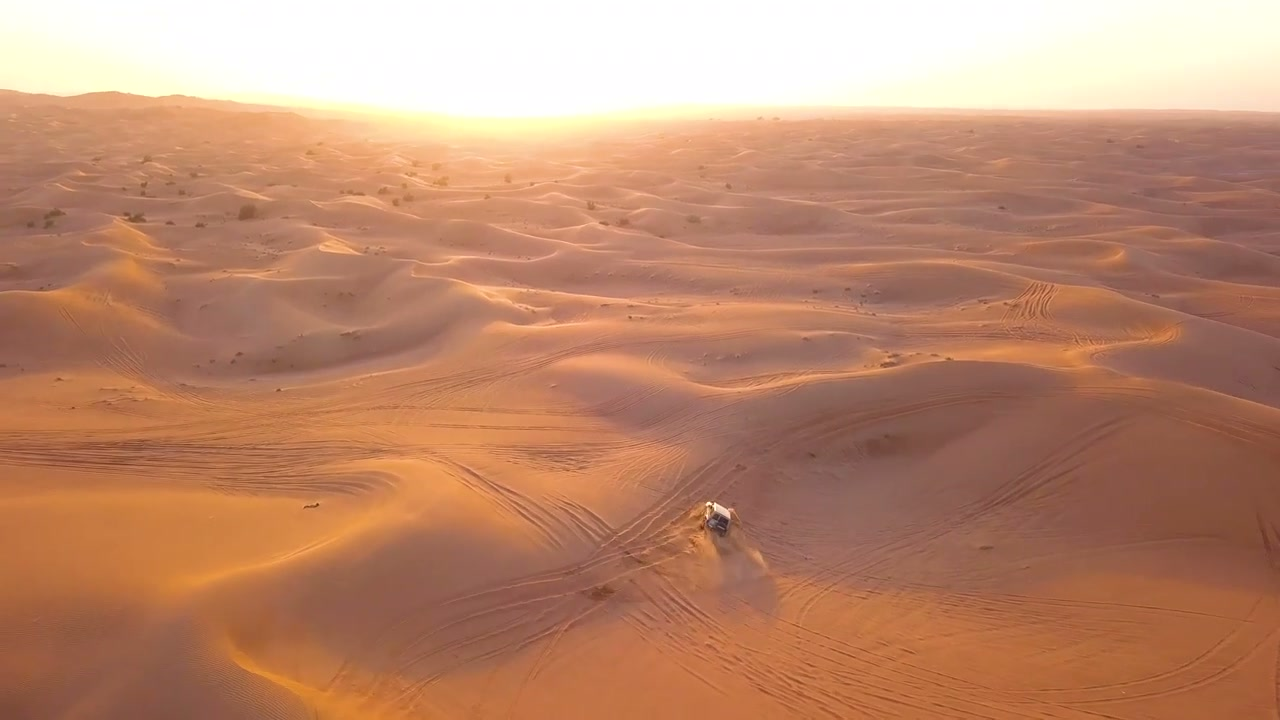vehicle_track: (330, 411, 849, 686), (329, 443, 756, 686), (788, 414, 1127, 622), (626, 572, 1081, 717), (365, 329, 760, 423), (1028, 592, 1279, 704), (0, 438, 387, 492), (430, 454, 578, 549), (1001, 281, 1056, 339)
